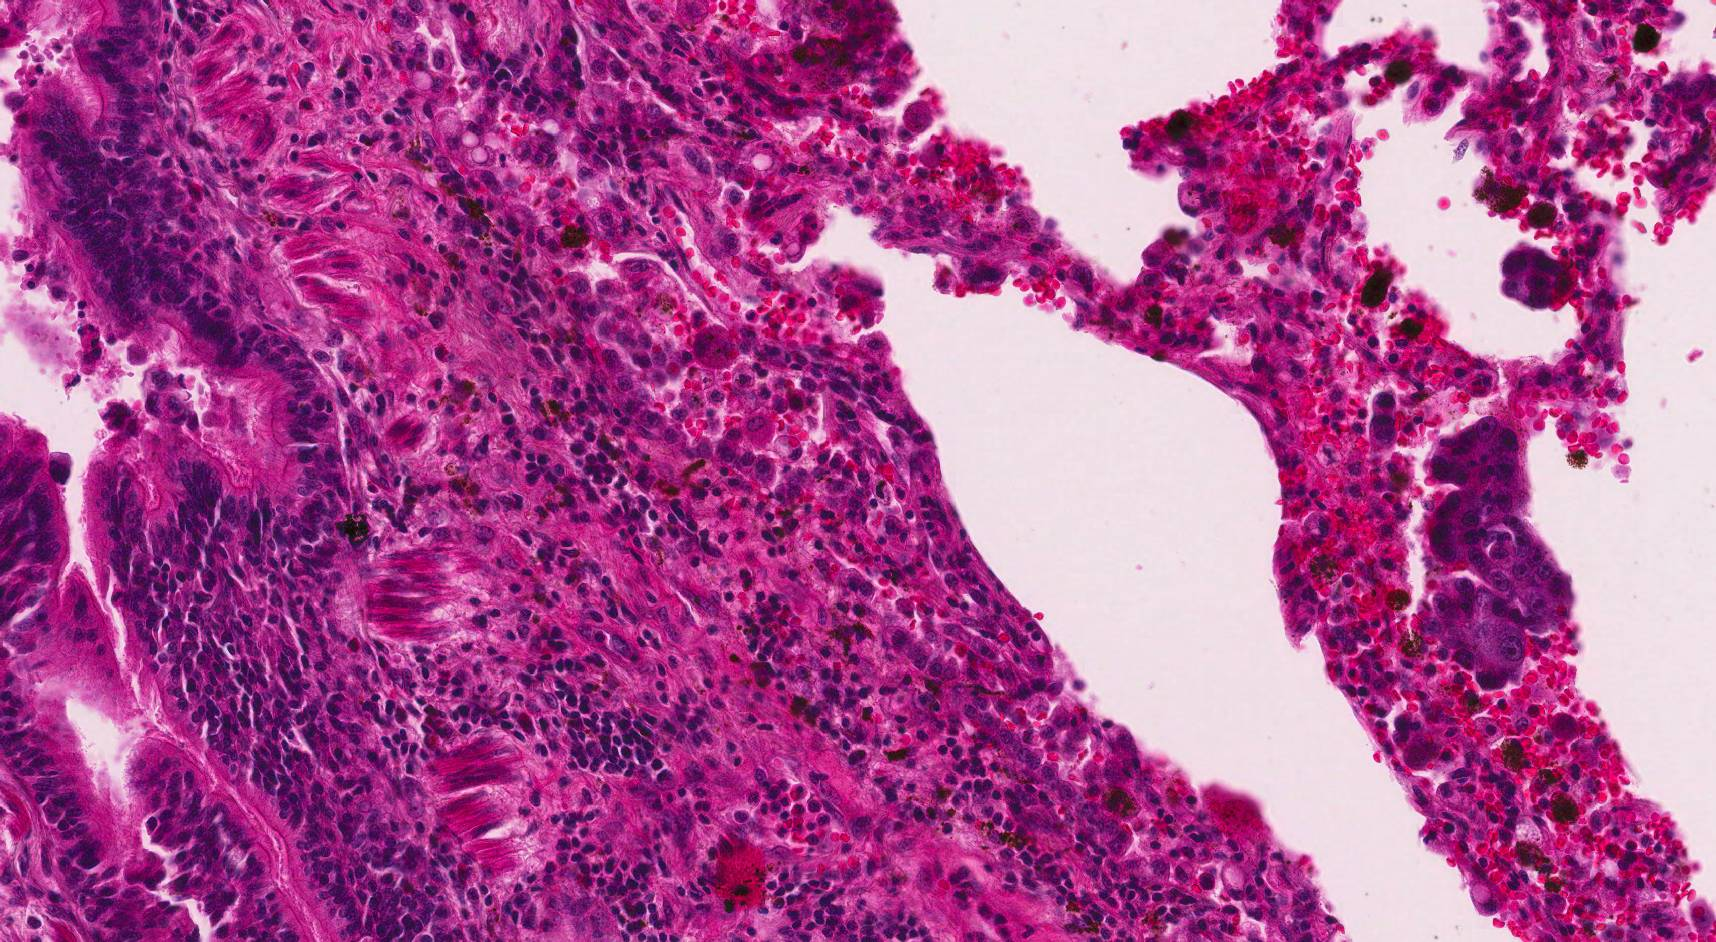stas: (1411, 413, 1574, 687), (1499, 244, 1575, 311)
